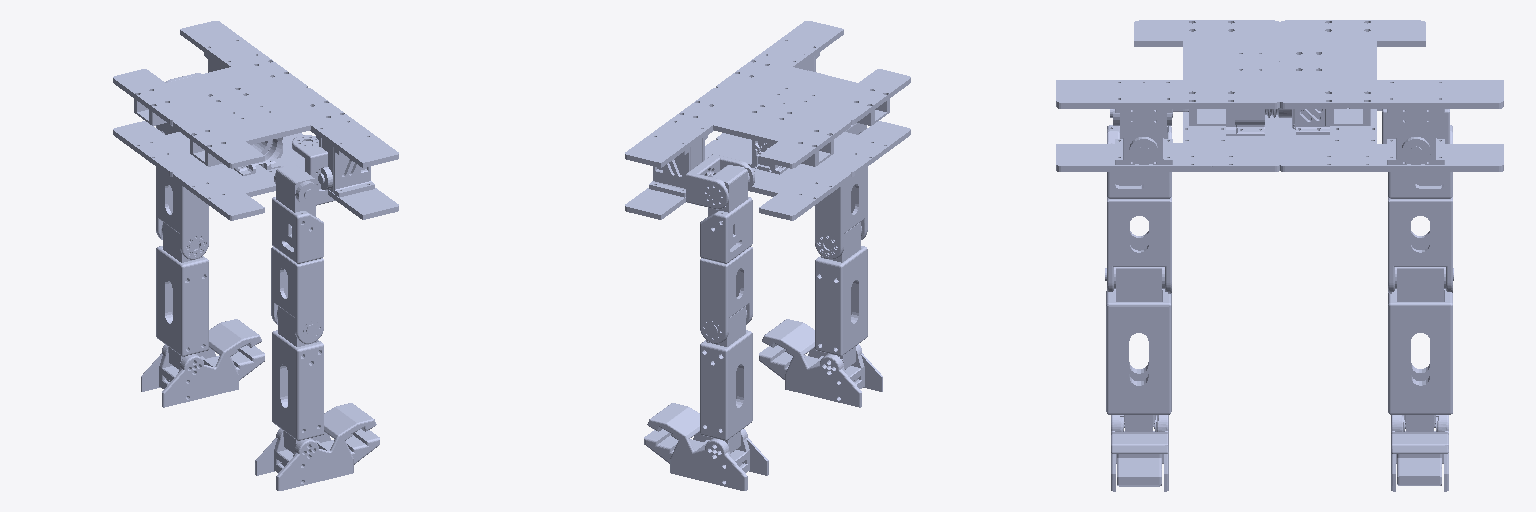
The robot description file, URDF, robot "Transformer_nam":
<?xml version="1.0" encoding="utf-8"?>
<!-- This URDF was automatically created by SolidWorks to URDF Exporter! Originally created by Stephen Brawner (brawner@gmail.com) 
     Commit Version: 1.6.0-4-g7f85cfe  Build Version: 1.6.7995.38578
     For more information, please see http://wiki.ros.org/sw_urdf_exporter -->
<robot
  name="Transformer_nam">
  <link
    name="Baselink">
    <inertial>
      <origin
        xyz="0.022722232230421 -0.000823017691158473 0.0331287651814958"
        rpy="0 0 0" />
      <mass
        value="1.32496257322059" />
      <inertia
        ixx="0.00312792138237112"
        ixy="-5.06509194699486E-06"
        ixz="-1.29619997694369E-05"
        iyy="0.00386281703574789"
        iyz="-7.49326924562596E-06"
        izz="0.0066304378080538" />
    </inertial>
    <visual>
      <origin
        xyz="0 0 0"
        rpy="0 0 0" />
      <geometry>
        <mesh
          filename="../meshes/Baselink.STL" />
      </geometry>
      <material
        name="">
        <color
          rgba="0.792156862745098 0.819607843137255 0.933333333333333 1" />
      </material>
    </visual>
    <collision>
      <origin
        xyz="0 0 0"
        rpy="0 0 0" />
      <geometry>
        <mesh
          filename="../meshes/Baselink.STL" />
      </geometry>
    </collision>
  </link>
  <link
    name="Bubleft">
    <inertial>
      <origin
        xyz="-0.00077222252897205 -1.48980082367856E-08 0.0144402391383288"
        rpy="0 0 0" />
      <mass
        value="0.0541320948471737" />
      <inertia
        ixx="1.9153591360639E-05"
        ixy="1.05076891290916E-11"
        ixz="1.29770853899577E-06"
        iyy="4.63922160357353E-05"
        iyz="1.26060804556529E-11"
        izz="4.32236807688341E-05" />
    </inertial>
    <visual>
      <origin
        xyz="0 0 0"
        rpy="0 0 0" />
      <geometry>
        <mesh
          filename="../meshes/Bubleft.STL" />
      </geometry>
      <material
        name="">
        <color
          rgba="0.792156862745098 0.819607843137255 0.933333333333333 1" />
      </material>
    </visual>
    <collision>
      <origin
        xyz="0 0 0"
        rpy="0 0 0" />
      <geometry>
        <mesh
          filename="../meshes/Bubleft.STL" />
      </geometry>
    </collision>
  </link>
  <joint
    name="Bubleft"
    type="revolute">
    <origin
      xyz="0.04025 -0.14005 0.0159"
      rpy="1.5707963267949 0 -1.5707963267949" />
    <parent
      link="Baselink" />
    <child
      link="Bubleft" />
    <axis
      xyz="0 0 1" />
    <limit
      lower="0"
      upper="0"
      effort="0"
      velocity="0" />
  </joint>
  <link
    name="Hipleft">
    <inertial>
      <origin
        xyz="-0.000270081557997251 -0.0684560993055163 0.00286268892115609"
        rpy="0 0 0" />
      <mass
        value="0.318234408091769" />
      <inertia
        ixx="0.000267811204266692"
        ixy="3.11914095953246E-06"
        ixz="4.88817409078698E-07"
        iyy="0.000174267837279053"
        iyz="-1.00379998284168E-05"
        izz="0.00017802683796978" />
    </inertial>
    <visual>
      <origin
        xyz="0 0 0"
        rpy="0 0 0" />
      <geometry>
        <mesh
          filename="../meshes/Hipleft.STL" />
      </geometry>
      <material
        name="">
        <color
          rgba="0.792156862745098 0.819607843137255 0.933333333333333 1" />
      </material>
    </visual>
    <collision>
      <origin
        xyz="0 0 0"
        rpy="0 0 0" />
      <geometry>
        <mesh
          filename="../meshes/Hipleft.STL" />
      </geometry>
    </collision>
  </link>
  <joint
    name="Hipleft"
    type="revolute">
    <origin
      xyz="0.000299999999999998 0 0.03995"
      rpy="0 1.5707963267949 0" />
    <parent
      link="Bubleft" />
    <child
      link="Hipleft" />
    <axis
      xyz="0 0 1" />
    <limit
      lower="0"
      upper="0"
      effort="0"
      velocity="0" />
  </joint>
  <link
    name="Kneeleft">
    <inertial>
      <origin
        xyz="4.53232767438361E-05 -0.0743268502837562 0.000464653410863151"
        rpy="0 0 0" />
      <mass
        value="0.321584635989643" />
      <inertia
        ixx="0.000413517962210184"
        ixy="-1.15563521351795E-12"
        ixz="2.83786073686604E-12"
        iyy="0.000169644385414367"
        iyz="-3.45699427258994E-08"
        izz="0.000328712219864248" />
    </inertial>
    <visual>
      <origin
        xyz="0 0 0"
        rpy="0 0 0" />
      <geometry>
        <mesh
          filename="../meshes/Kneeleft.STL" />
      </geometry>
      <material
        name="">
        <color
          rgba="0.792156862745098 0.819607843137255 0.933333333333333 1" />
      </material>
    </visual>
    <collision>
      <origin
        xyz="0 0 0"
        rpy="0 0 0" />
      <geometry>
        <mesh
          filename="../meshes/Kneeleft.STL" />
      </geometry>
    </collision>
  </link>
  <joint
    name="Kneeleft"
    type="revolute">
    <origin
      xyz="9.99999999999751E-05 -0.1851 0.00419999999999984"
      rpy="0 0 0" />
    <parent
      link="Hipleft" />
    <child
      link="Kneeleft" />
    <axis
      xyz="0 0 1" />
    <limit
      lower="0"
      upper="0"
      effort="0"
      velocity="0" />
  </joint>
  <link
    name="Footleft">
    <inertial>
      <origin
        xyz="0.0366739746986923 -0.017379062429639 0.000213862523254661"
        rpy="0 0 0" />
      <mass
        value="0.213822723684556" />
      <inertia
        ixx="0.000122852397918318"
        ixy="-6.57031342432722E-05"
        ixz="7.51393483020147E-08"
        iyy="0.000270815082048137"
        iyz="4.99178931241649E-09"
        izz="0.000254522196916082" />
    </inertial>
    <visual>
      <origin
        xyz="0 0 0"
        rpy="0 0 0" />
      <geometry>
        <mesh
          filename="../meshes/Footleft.STL" />
      </geometry>
      <material
        name="">
        <color
          rgba="0.792156862745098 0.819607843137255 0.933333333333333 1" />
      </material>
    </visual>
    <collision>
      <origin
        xyz="0 0 0"
        rpy="0 0 0" />
      <geometry>
        <mesh
          filename="../meshes/Footleft.STL" />
      </geometry>
    </collision>
  </link>
  <joint
    name="Footleft"
    type="revolute">
    <origin
      xyz="-9.99999999999196E-05 -0.1709 -0.00055000000000005"
      rpy="0 0 0" />
    <parent
      link="Kneeleft" />
    <child
      link="Footleft" />
    <axis
      xyz="0 0 1" />
    <limit
      lower="0"
      upper="0"
      effort="0"
      velocity="0" />
  </joint>
  <link
    name="Bubright">
    <inertial>
      <origin
        xyz="-0.000772222528972022 -1.48980082367856E-08 0.0144402391383288"
        rpy="0 0 0" />
      <mass
        value="0.0541320948471737" />
      <inertia
        ixx="1.91535913606391E-05"
        ixy="1.05076891156568E-11"
        ixz="1.29770853899577E-06"
        iyy="4.63922160357354E-05"
        iyz="1.2606080461625E-11"
        izz="4.32236807688341E-05" />
    </inertial>
    <visual>
      <origin
        xyz="0 0 0"
        rpy="0 0 0" />
      <geometry>
        <mesh
          filename="../meshes/Bubright.STL" />
      </geometry>
      <material
        name="">
        <color
          rgba="0.792156862745098 0.819607843137255 0.933333333333333 1" />
      </material>
    </visual>
    <collision>
      <origin
        xyz="0 0 0"
        rpy="0 0 0" />
      <geometry>
        <mesh
          filename="../meshes/Bubright.STL" />
      </geometry>
    </collision>
  </link>
  <joint
    name="Bubright"
    type="revolute">
    <origin
      xyz="0.0402500000000001 0.13995 0.0159"
      rpy="-1.5707963267949 0 1.5707963267949" />
    <parent
      link="Baselink" />
    <child
      link="Bubright" />
    <axis
      xyz="0 0 1" />
    <limit
      lower="0"
      upper="0"
      effort="0"
      velocity="0" />
  </joint>
  <link
    name="Hipright">
    <inertial>
      <origin
        xyz="-0.000405092555900294 0.0684560755966682 0.0028627074599214"
        rpy="0 0 0" />
      <mass
        value="0.318234889909563" />
      <inertia
        ixx="0.000267811380487872"
        ixy="-3.11898839144834E-06"
        ixz="4.88860066637239E-07"
        iyy="0.000174268008727696"
        iyz="1.00382672886604E-05"
        izz="0.000178026829294935" />
    </inertial>
    <visual>
      <origin
        xyz="0 0 0"
        rpy="0 0 0" />
      <geometry>
        <mesh
          filename="../meshes/Hipright.STL" />
      </geometry>
      <material
        name="">
        <color
          rgba="0.792156862745098 0.819607843137255 0.933333333333333 1" />
      </material>
    </visual>
    <collision>
      <origin
        xyz="0 0 0"
        rpy="0 0 0" />
      <geometry>
        <mesh
          filename="../meshes/Hipright.STL" />
      </geometry>
    </collision>
  </link>
  <joint
    name="Hipright"
    type="revolute">
    <origin
      xyz="0.000299999999999967 0 0.0399500000000008"
      rpy="0 1.5707963267949 0" />
    <parent
      link="Bubright" />
    <child
      link="Hipright" />
    <axis
      xyz="0 0 1" />
    <limit
      lower="0"
      upper="0"
      effort="0"
      velocity="0" />
  </joint>
  <link
    name="Kneeright">
    <inertial>
      <origin
        xyz="-4.53232767438222E-05 0.0743268502837559 0.000328961906988501"
        rpy="0 0 0" />
      <mass
        value="0.321584635989643" />
      <inertia
        ixx="0.000413517962210183"
        ixy="-1.15563522043453E-12"
        ixz="-2.83786072663774E-12"
        iyy="0.000169644385414367"
        iyz="3.4569942725981E-08"
        izz="0.000328712219864248" />
    </inertial>
    <visual>
      <origin
        xyz="0 0 0"
        rpy="0 0 0" />
      <geometry>
        <mesh
          filename="../meshes/Kneeright.STL" />
      </geometry>
      <material
        name="">
        <color
          rgba="0.792156862745098 0.819607843137255 0.933333333333333 1" />
      </material>
    </visual>
    <collision>
      <origin
        xyz="0 0 0"
        rpy="0 0 0" />
      <geometry>
        <mesh
          filename="../meshes/Kneeright.STL" />
      </geometry>
    </collision>
  </link>
  <joint
    name="Kneeright"
    type="revolute">
    <origin
      xyz="-9.9999999999878E-05 0.1851 0.00419999999999998"
      rpy="0 0 0" />
    <parent
      link="Hipright" />
    <child
      link="Kneeright" />
    <axis
      xyz="0 0 1" />
    <limit
      lower="0"
      upper="0"
      effort="0"
      velocity="0" />
  </joint>
  <link
    name="Footright">
    <inertial>
      <origin
        xyz="0.0366739750369883 0.0172788985778792 -0.000213862492401906"
        rpy="0 0 0" />
      <mass
        value="0.213822726115051" />
      <inertia
        ixx="0.000122852400084898"
        ixy="6.57031359502893E-05"
        ixz="-7.51393450167064E-08"
        iyy="0.000270815087500778"
        iyz="4.99163495568258E-09"
        izz="0.000254522201690246" />
    </inertial>
    <visual>
      <origin
        xyz="0 0 0"
        rpy="0 0 0" />
      <geometry>
        <mesh
          filename="../meshes/Footright.STL" />
      </geometry>
      <material
        name="">
        <color
          rgba="0.792156862745098 0.819607843137255 0.933333333333333 1" />
      </material>
    </visual>
    <collision>
      <origin
        xyz="0 0 0"
        rpy="0 0 0" />
      <geometry>
        <mesh
          filename="../meshes/Footright.STL" />
      </geometry>
    </collision>
  </link>
  <joint
    name="Footright"
    type="revolute">
    <origin
      xyz="9.99999999999474E-05 0.1709 -0.000449999999999784"
      rpy="0 0 0" />
    <parent
      link="Kneeright" />
    <child
      link="Footright" />
    <axis
      xyz="0 0 1" />
    <limit
      lower="0"
      upper="0"
      effort="0"
      velocity="0" />
  </joint>
</robot>

--- Render facts (derived) ---
The picture shows the robot from 3 angles, left to right: view 1: azimuth 30°, elevation 25°; view 2: azimuth 150°, elevation 25°; view 3: azimuth 270°, elevation 25°; orthographic projection.
Robot: Transformer_nam — 9 links, 8 joints (8 revolute); root link Baselink; default pose: all joints at 0.
Visible links, largest first — view 1: Baselink, Hipleft, Footleft, Footright, Kneeright, Kneeleft, Hipright, Bubleft; view 2: Baselink, Hipright, Kneeright, Footleft, Footright, Kneeleft, Hipleft, Bubright; view 3: Baselink, Kneeleft, Kneeright, Hipleft, Hipright, Footleft, Footright, Bubright.
Boxes of the visible links, <box> form: Baselink: <box>113,21,398,220</box>; Hipleft: <box>271,165,323,343</box>; Footleft: <box>255,403,379,490</box>; Footright: <box>141,319,264,407</box>; Kneeright: <box>156,222,208,369</box>; Kneeleft: <box>272,306,323,453</box>; Hipright: <box>156,123,208,259</box>; Bubleft: <box>292,135,335,205</box>; Baselink: <box>625,21,910,220</box>; Hipright: <box>700,165,752,343</box>; Kneeright: <box>700,306,752,453</box>; Footleft: <box>759,319,882,407</box>; Footright: <box>644,403,768,490</box>; Kneeleft: <box>815,222,867,369</box>; Hipleft: <box>815,123,867,259</box>; Bubright: <box>686,154,754,209</box>; Baselink: <box>1056,20,1503,171</box>; Kneeleft: <box>1105,267,1171,431</box>; Kneeright: <box>1388,267,1453,431</box>; Hipleft: <box>1107,109,1172,293</box>; Hipright: <box>1388,125,1452,293</box>; Footleft: <box>1111,415,1168,491</box>; Footright: <box>1391,415,1448,491</box>; Bubright: <box>1382,109,1449,143</box>.
Bounding box of the posed robot: 0.2072 × 0.46 × 0.4572 m (x, y, z).
Meshes: 9 distinct files referenced, 9 mesh visuals loaded (9 binary STL).
